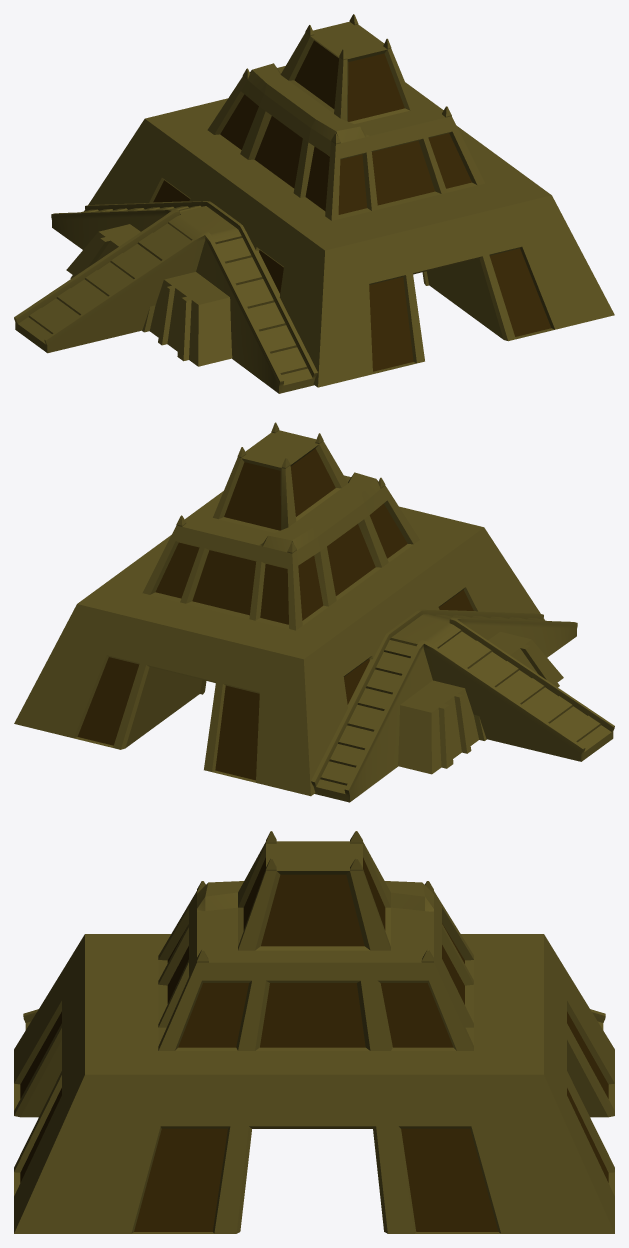
File: Zigguraut.fbx
3 renders of one model, top to bottom at view 1: azimuth 30°, elevation 25°; view 2: azimuth 150°, elevation 25°; view 3: azimuth 270°, elevation 25°, orthographic. The views are drawn at different scales.
Parts seen in each view (by area): view 1: ZigguratMainBody; view 2: ZigguratMainBody; view 3: ZigguratMainBody.
Part boxes in pixels (x1,y1,x2,y2): ZigguratMainBody: [14, 14, 614, 393]; ZigguratMainBody: [14, 422, 614, 802]; ZigguratMainBody: [14, 831, 614, 1233].
Size of the model in its own units: 164 by 78.68 by 144.
